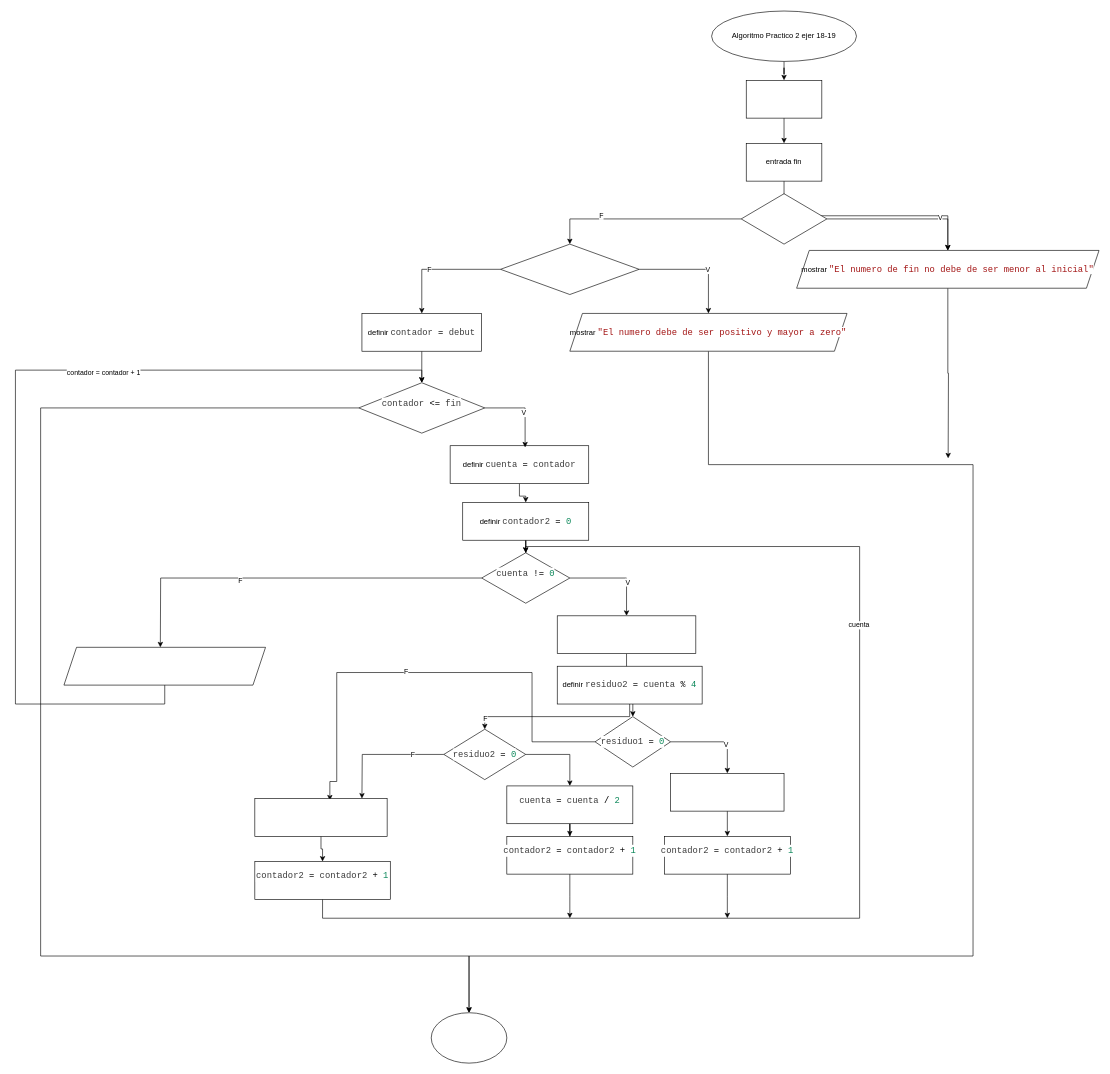
Image size: 1110x1074. Some labels were removed from this diagram. The centre of each missing label's shape, as x and y in pixels:
cuenta = cuenta + 4: the point at 727,792
cuenta = cuenta - 1: the point at 320,817
debut <= 0 o fin <= 0: the point at 569,269
debut > fin: the point at 784,218
definir residuo1 = cuenta % 3: the point at 626,634
entrada debut: the point at 784,99
FinAlgoritmo: the point at 469,1037
mostrar contador , "->" , contador2: the point at 164,666
